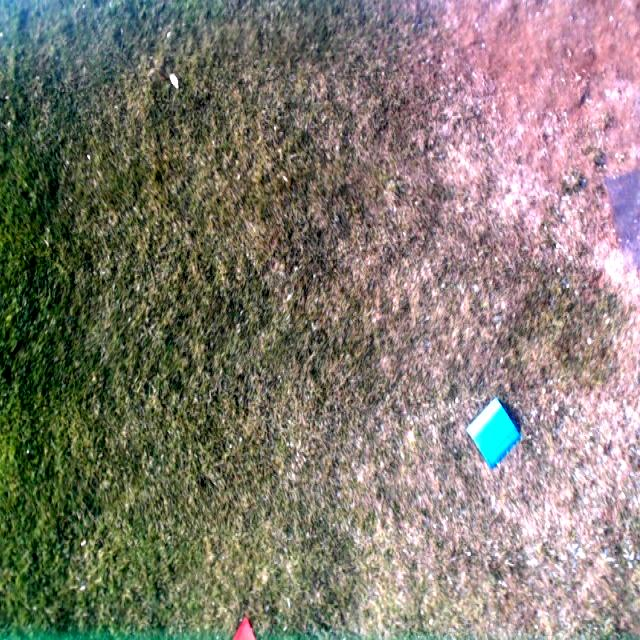blue_square: (465, 396, 520, 469)
